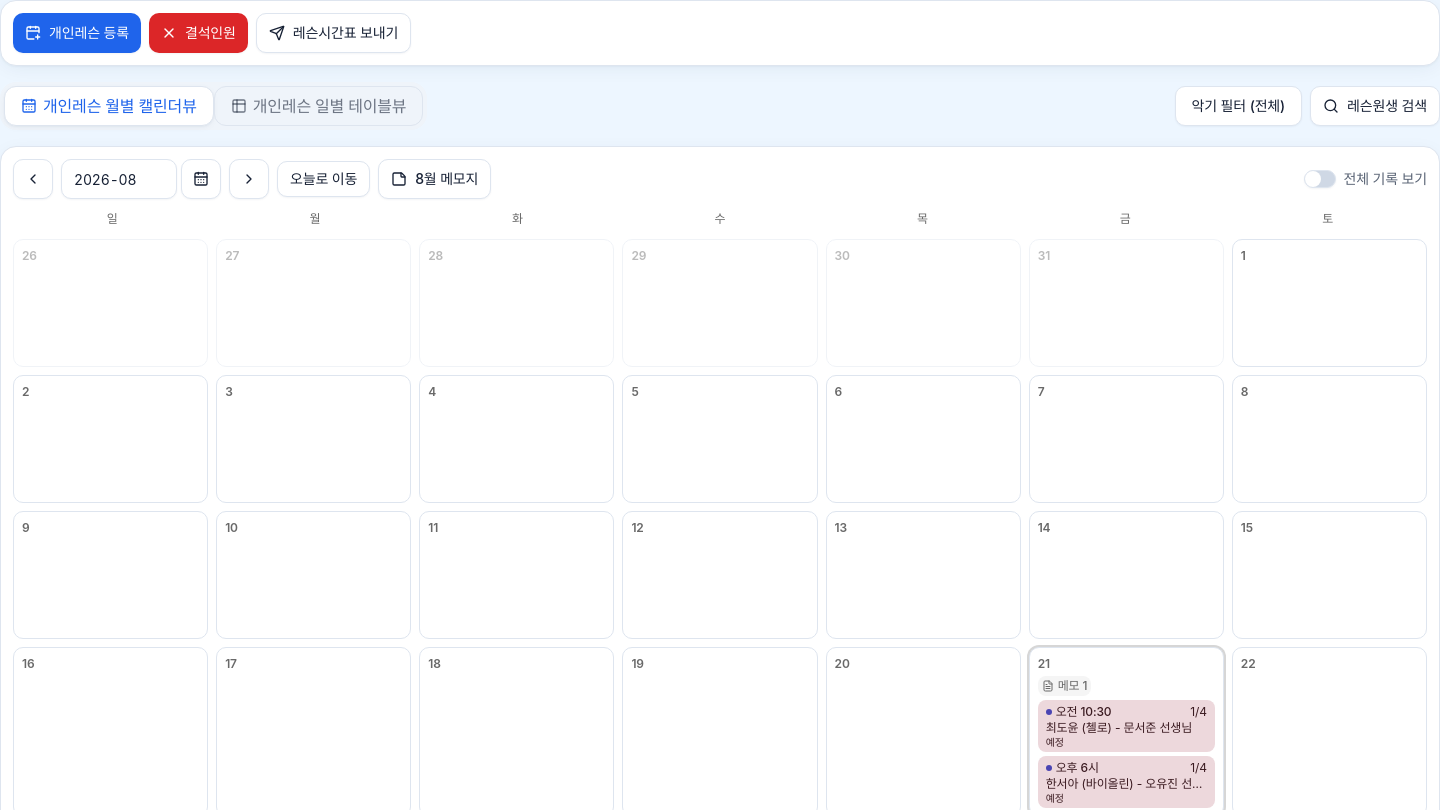
Test: 개인레슨 달력 일정 표시 (명세 3.3) › 악기 필터 밖 원생과 선생님의 날짜 메모도 수정할 수 있다
The width and height of the screenshot is (1440, 810).
Click the button "악기 필터 (전체)".
click(1238, 106)  # box x1=1175 y1=86 x2=1302 y2=126
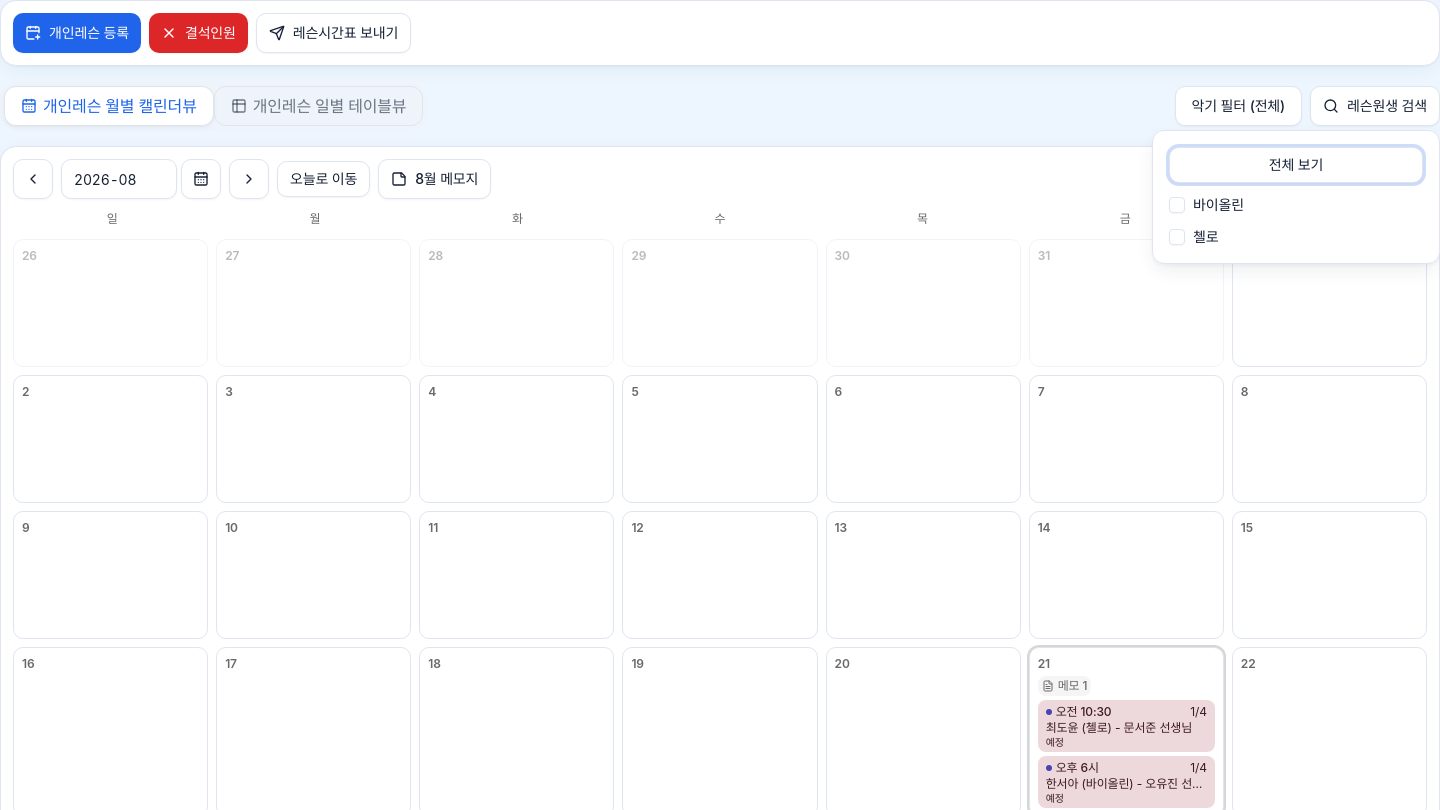
Click the 2nd checkbox named "첼로".
click(1177, 237)  # box x1=1169 y1=229 x2=1185 y2=245
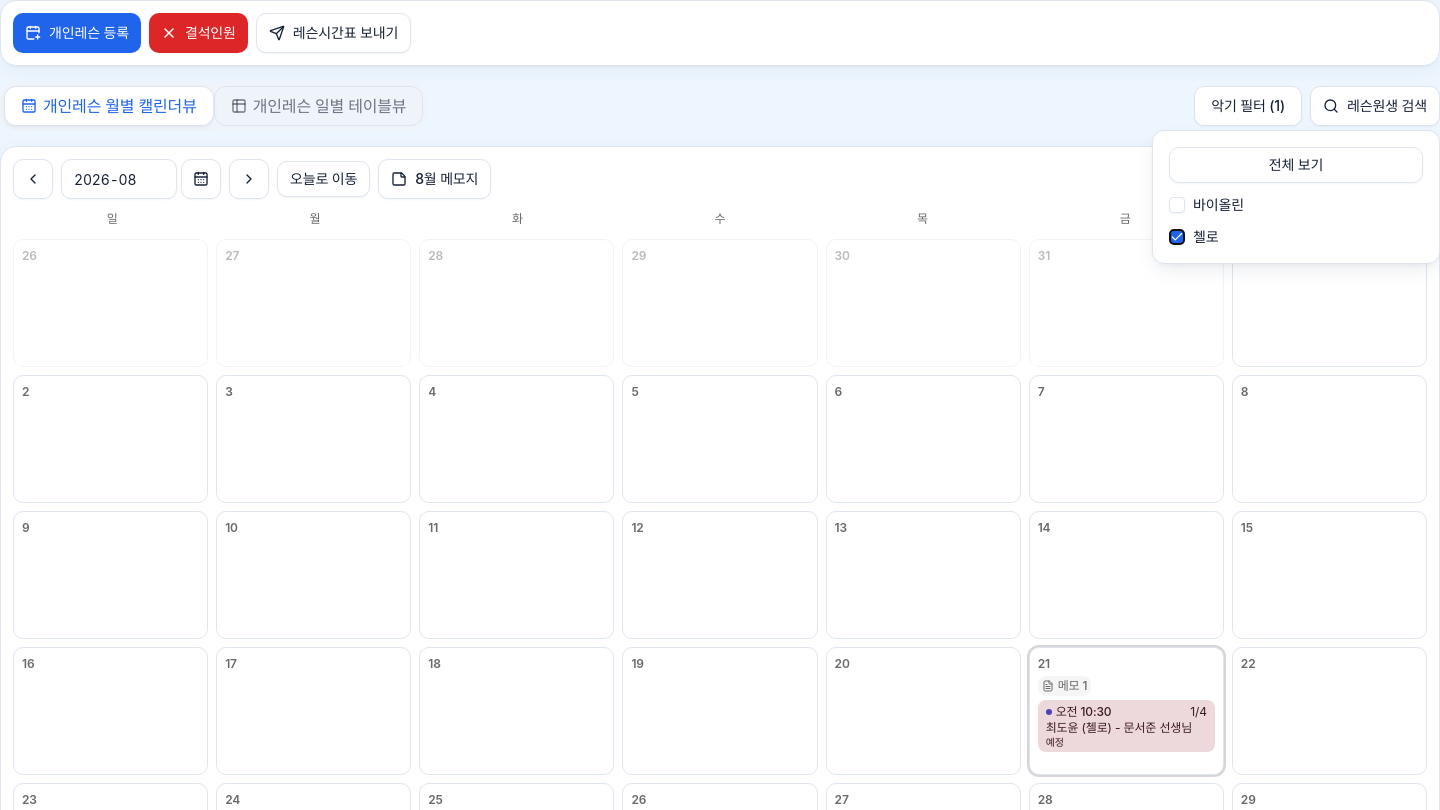
Press Escape
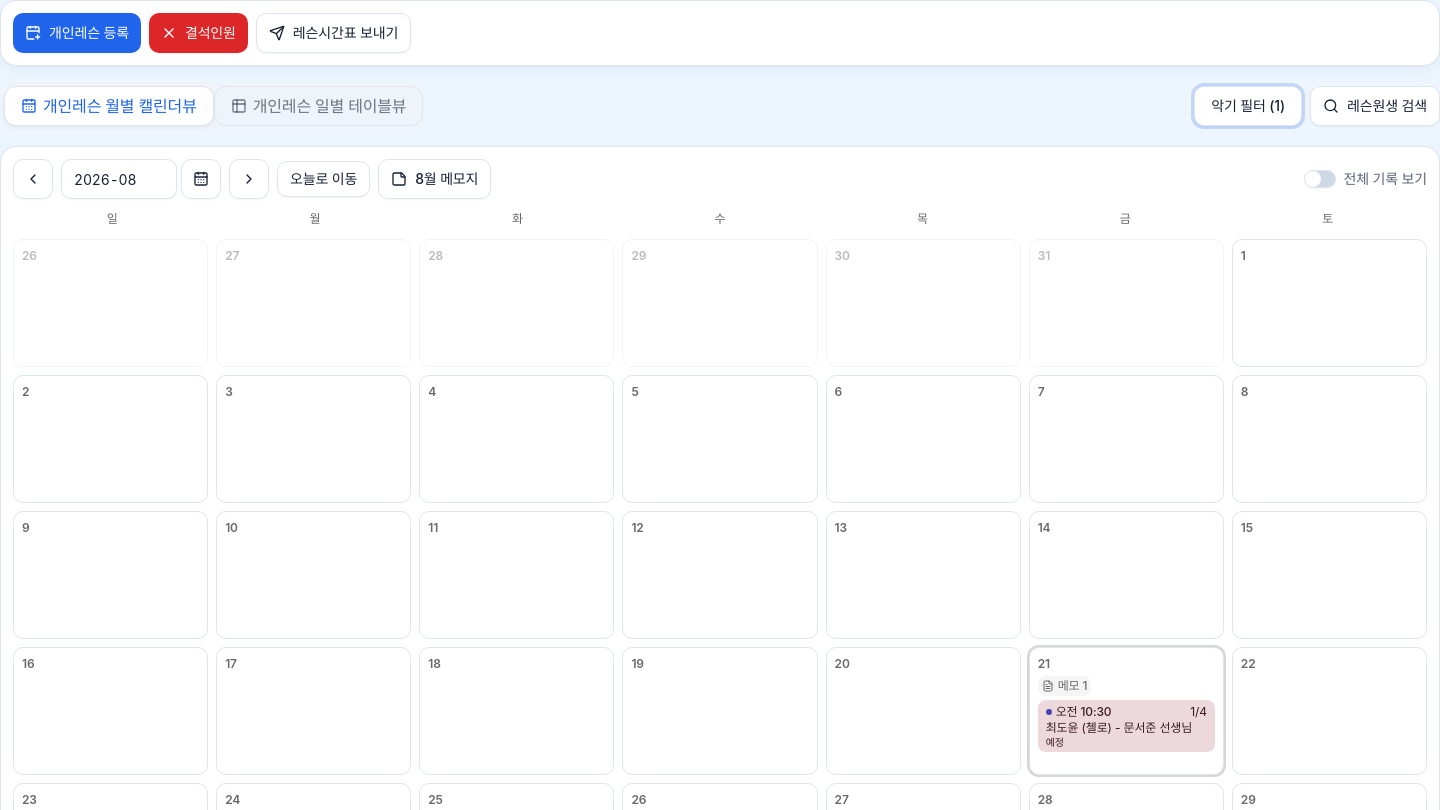
Click the cell "21 메모 1 오전 10:30 1/4 최도윤 (첼로) - 문서준 선생님 예정".
click(1126, 711)  # box x1=1029 y1=647 x2=1224 y2=775
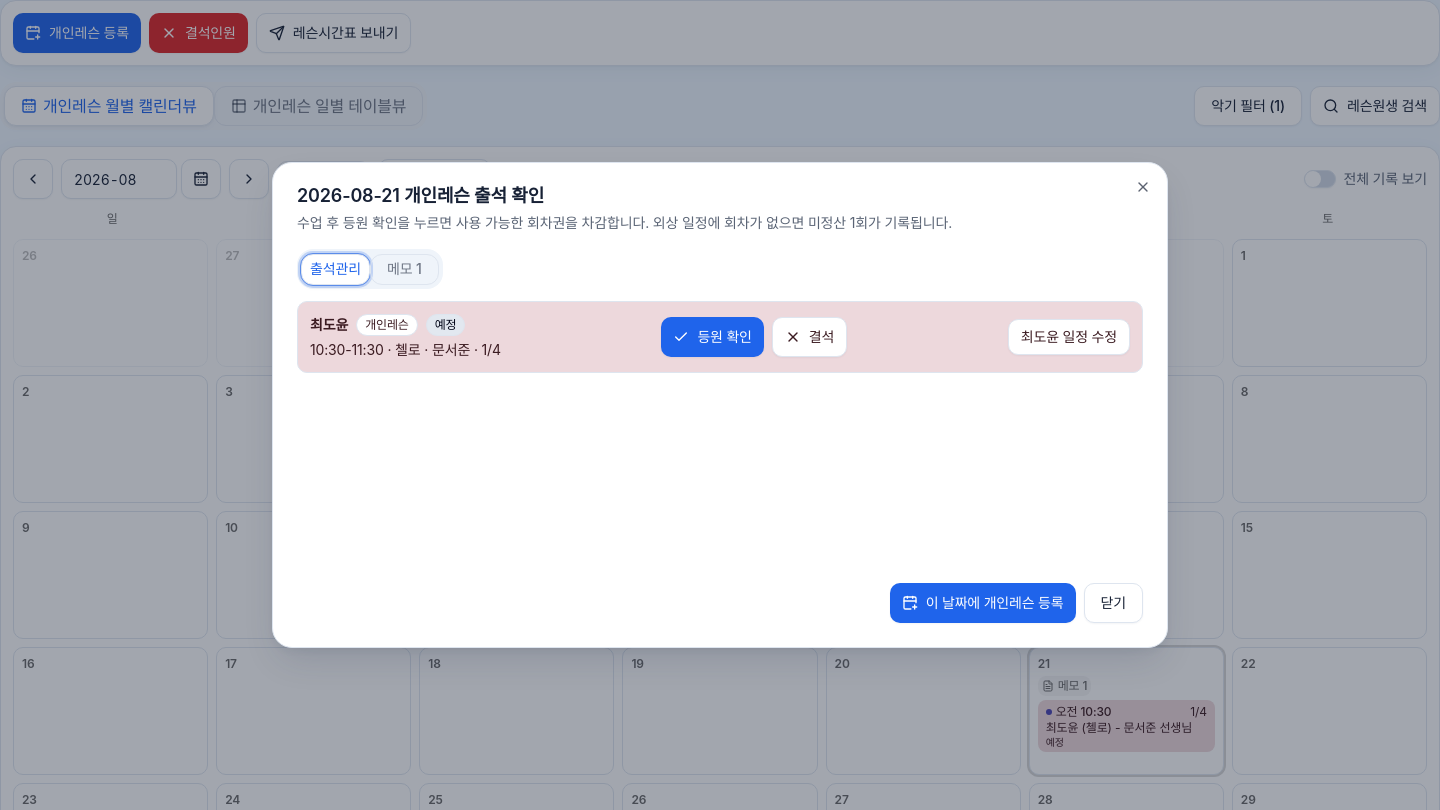
Click the tab "메모 1".
click(404, 269)  # box x1=370 y1=254 x2=439 y2=284
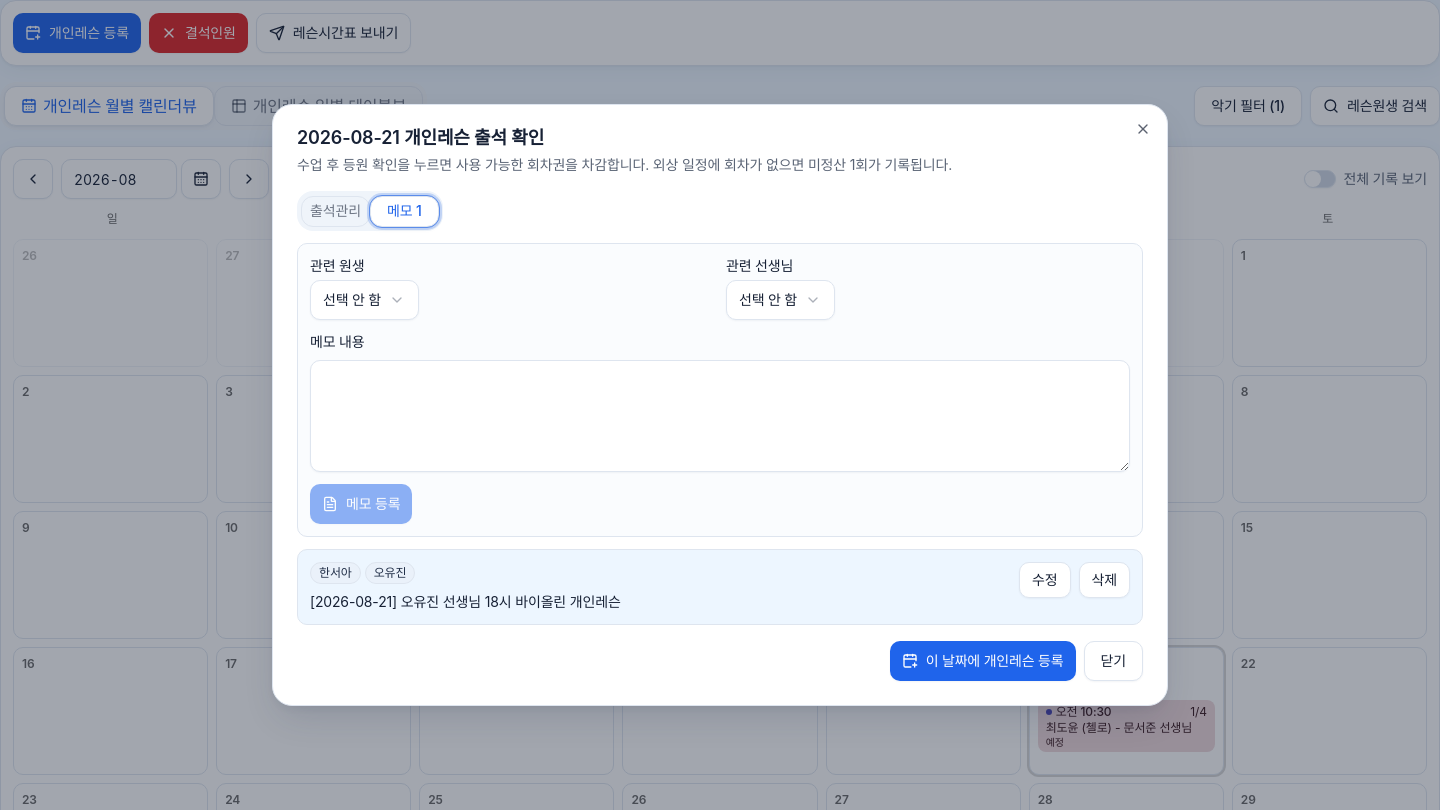
Click the button with aria-label "메모 수정".
click(1045, 580)  # box x1=1019 y1=562 x2=1071 y2=598
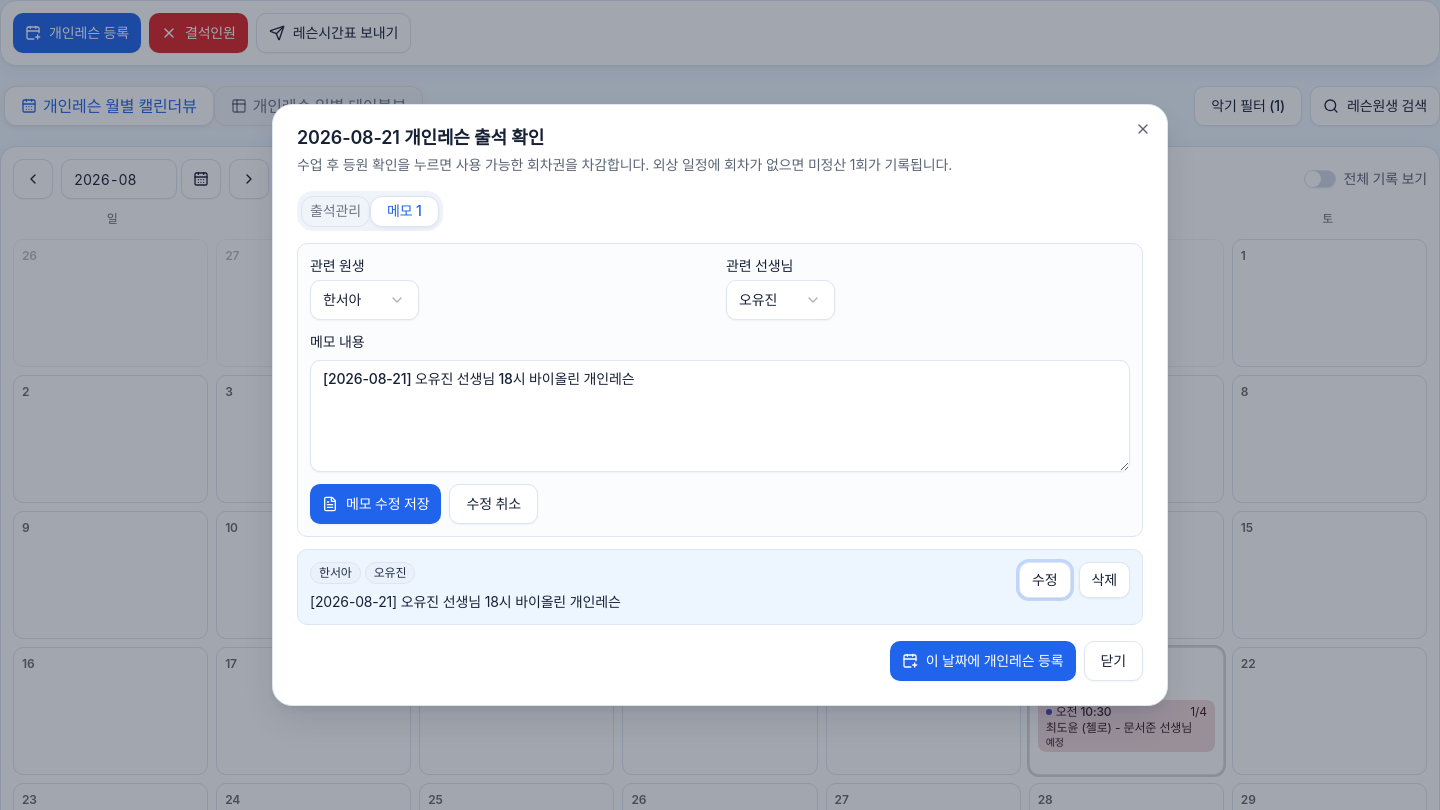
Check: the dropdown labelled "관련 원생" shows "한서아", box x1=310 y1=280 x2=419 y2=320
Check: the dropdown labelled "관련 선생님" shows "오유진", box x1=726 y1=280 x2=835 y2=320
Check: the button "메모 수정 저장" is enabled, box x1=310 y1=484 x2=442 y2=524
